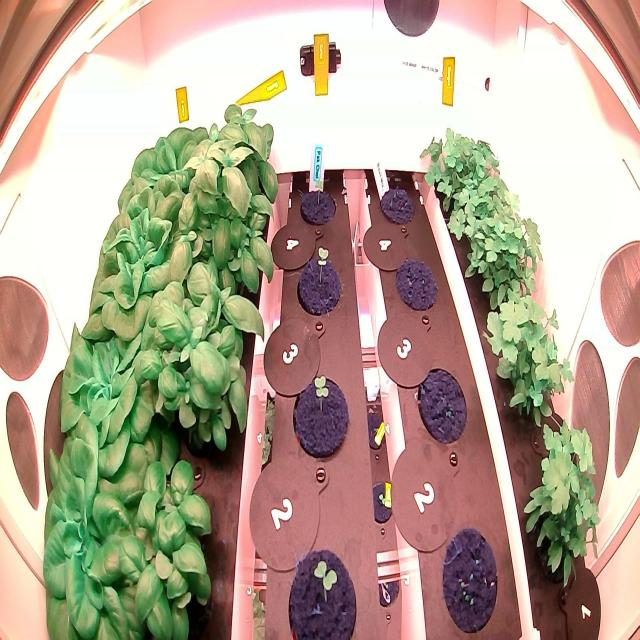Ready: (41, 422, 166, 640), (77, 178, 202, 364), (51, 314, 177, 487), (112, 114, 224, 249)
germination: (281, 534, 363, 640), (286, 360, 351, 460), (295, 236, 344, 318), (296, 172, 340, 239)
pod: (435, 516, 505, 635), (413, 357, 471, 449), (392, 242, 442, 320), (373, 171, 425, 238)
